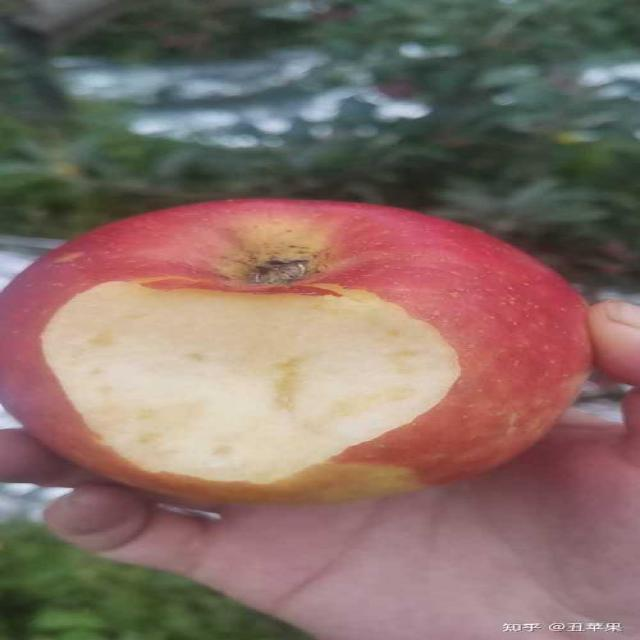Rotten: (0, 192, 592, 509)
